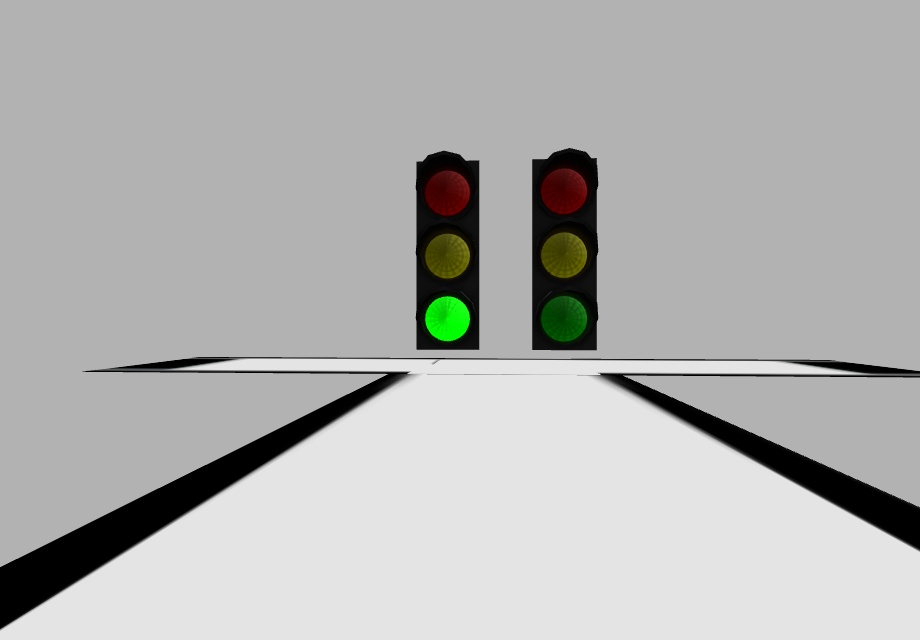green_off: (537, 290, 590, 348)
green_on: (420, 289, 476, 344)
